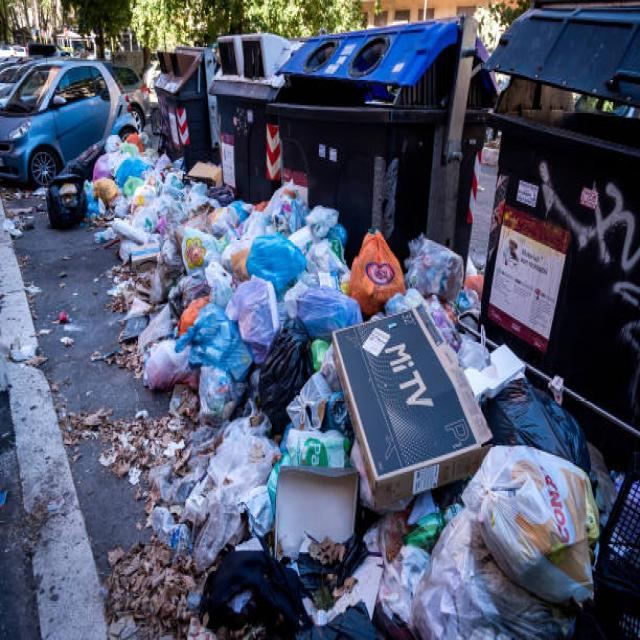cardboard: (341, 306, 479, 489)
trash: (89, 125, 345, 615)
